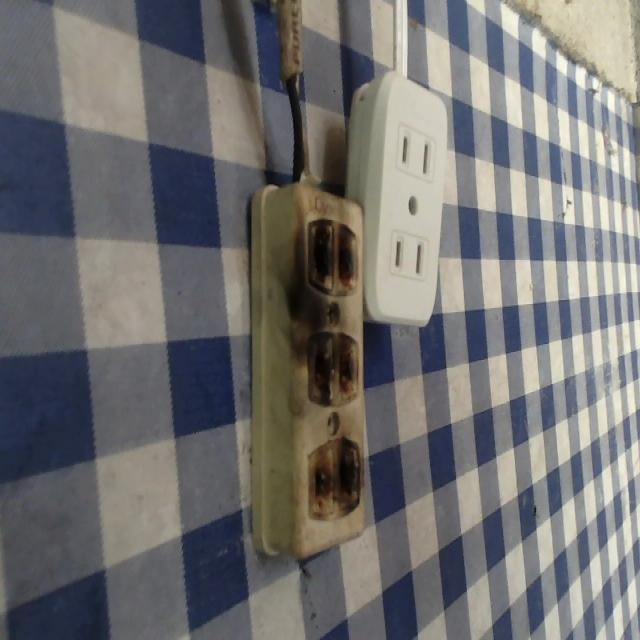-: (304, 436, 366, 521), (308, 325, 367, 412), (300, 214, 361, 298)
